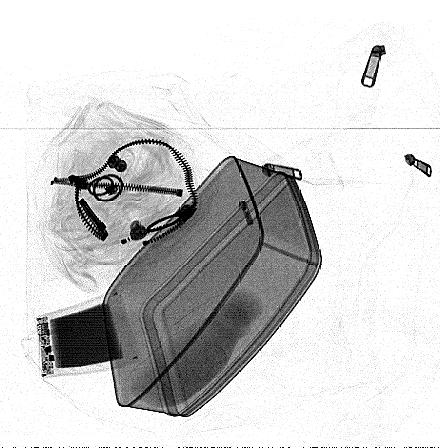Powerbank: (34, 291, 141, 380)
